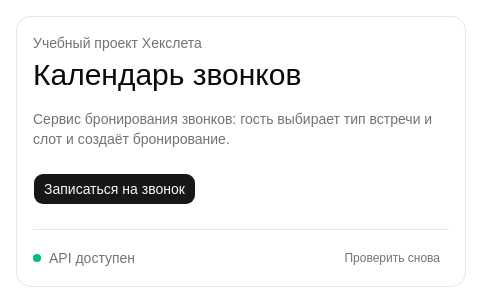
App › переходит на страницу записи и возвращается обратно
Click the link "Записаться на звонок". click: (114, 188)
box: [33,172,196,204]
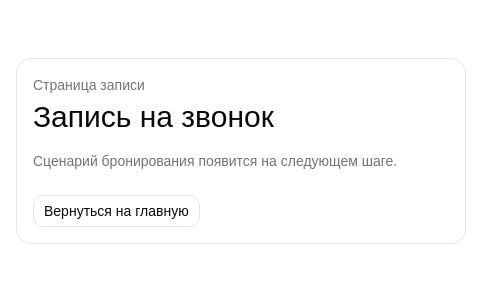
Check: the heading "Запись на звонок" is shown, box [33,100,274,133]
Click the link "Вернуться на главную". click: (116, 211)
box: [33,195,200,227]
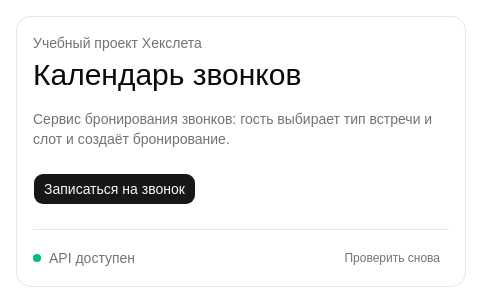
Check: the heading "Календарь звонков" is shown, box [33,58,302,90]
